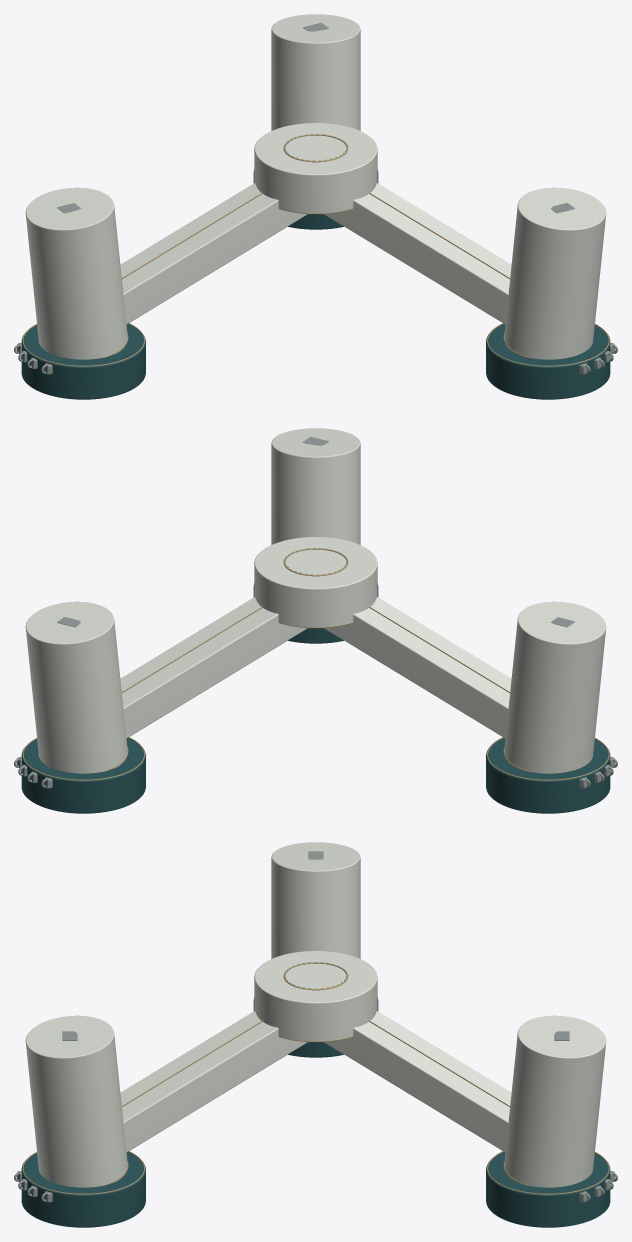
Rendered from reference-platform.glb.
3 views of the same model, one above another, from view 1: azimuth 30°, elevation 25°; view 2: azimuth 150°, elevation 25°; view 3: azimuth 270°, elevation 25° (orthographic).
Visible parts, largest first — view 1: OuterColumn_1, OuterColumn_3, RadialBrace_1, RadialBrace_3, OuterColumn_2, CentralHub, BallastBase_1, BallastBase_3, BallastBase_2; view 2: OuterColumn_1, OuterColumn_2, RadialBrace_1, RadialBrace_2, OuterColumn_3, CentralHub, BallastBase_1, BallastBase_2, BallastBase_3; view 3: OuterColumn_2, OuterColumn_3, RadialBrace_2, RadialBrace_3, OuterColumn_1, CentralHub, BallastBase_2, BallastBase_3, BallastBase_1.
Boxes of the visible parts, x1,y1,x2,y2 form: OuterColumn_1: (25,187,127,359); OuterColumn_3: (504,187,606,359); RadialBrace_1: (120,183,307,324); RadialBrace_3: (324,183,511,324); OuterColumn_2: (271,14,360,130); CentralHub: (254,123,377,213); BallastBase_1: (21,323,145,399); BallastBase_3: (486,323,610,399); BallastBase_2: (253,169,378,229); OuterColumn_1: (504,601,606,773); OuterColumn_2: (25,601,127,773); RadialBrace_1: (324,597,511,738); RadialBrace_2: (120,597,307,738); OuterColumn_3: (271,428,360,544); CentralHub: (254,537,377,627); BallastBase_1: (486,737,610,813); BallastBase_2: (21,737,145,813); BallastBase_3: (253,583,378,643); OuterColumn_2: (504,1015,606,1187); OuterColumn_3: (25,1015,127,1187); RadialBrace_2: (324,1011,511,1152); RadialBrace_3: (120,1011,307,1152); OuterColumn_1: (271,842,360,958); CentralHub: (254,951,377,1041); BallastBase_2: (486,1151,610,1227); BallastBase_3: (21,1151,145,1227); BallastBase_1: (253,997,378,1057).
Bounding box in the file's own units: 93.7 × 33.4 × 106.
